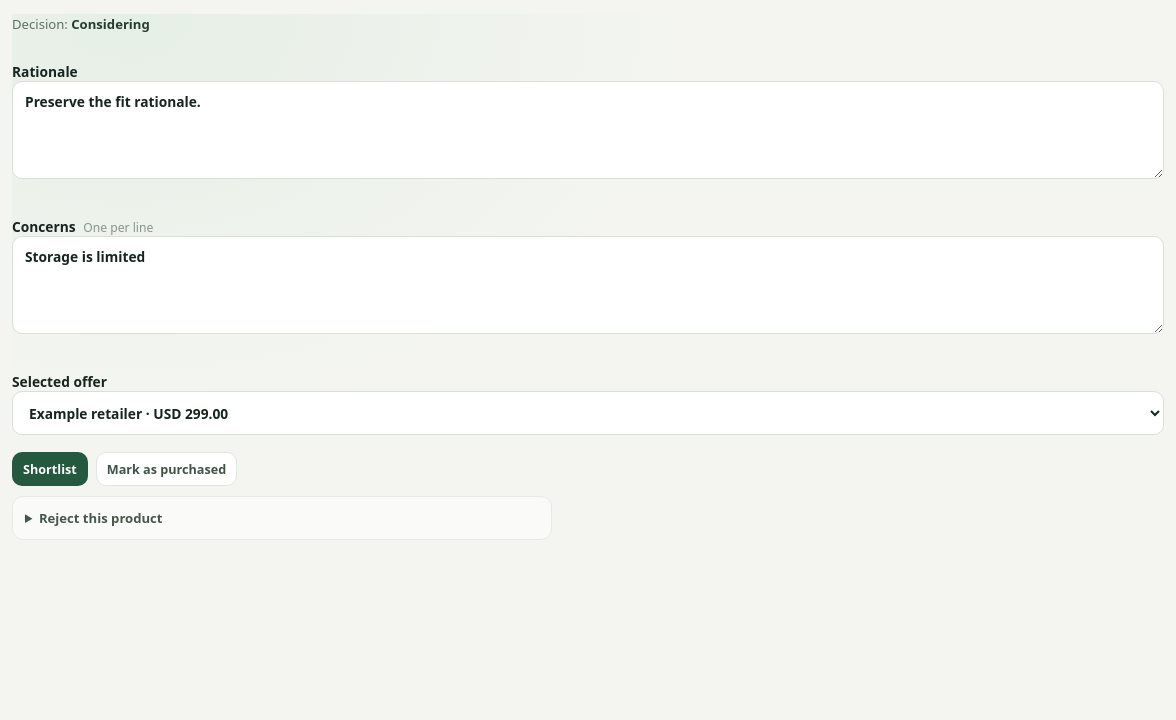
Test: Phase 6 decision workspace › records shortlist transitions against an exact project variant
Click the button "Shortlist" at [50, 469], box [12,452,88,486]
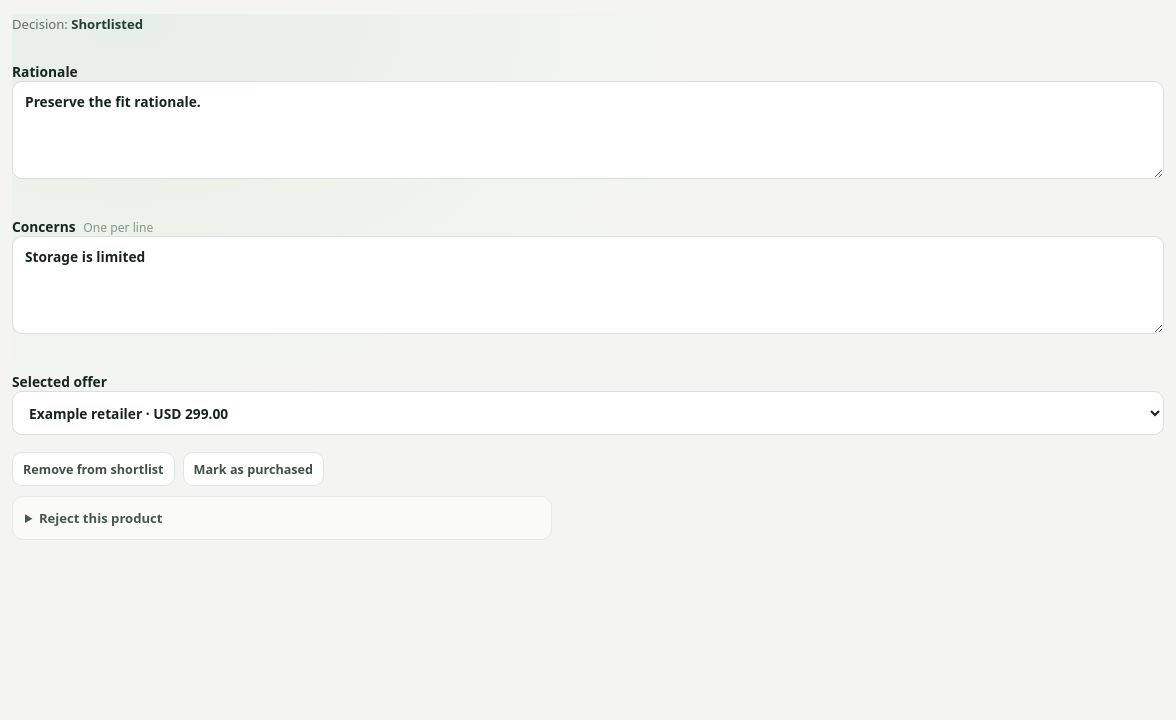
Now the text "shortlisted" is shown, box [71,15,143,33]
